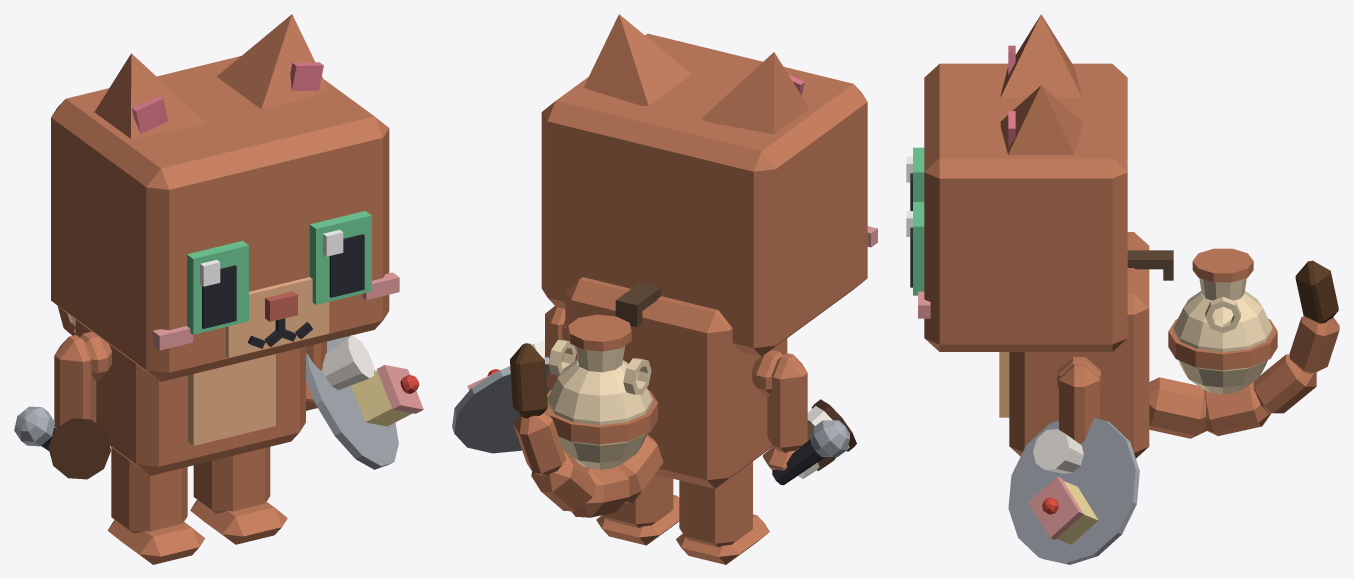
The model's file is CatCafe_Cat_Clay_Work.glb.
The picture shows the model from 3 angles, left to right: view 1: azimuth 30°, elevation 25°; view 2: azimuth 150°, elevation 25°; view 3: azimuth 270°, elevation 25°; orthographic projection. The views are drawn at different scales.
Visible parts, largest first — view 1: CatCafe_Cat_Clay_Work_Head, CatCafe_Cat_Clay_Work_Body, CatCafe_Cat_Clay_Work_Held_Waiter, CatCafe_Cat_Clay_Work_LegB2, CatCafe_Cat_Clay_Work_LegB1, CatCafe_Cat_Clay_Work_EarL, CatCafe_Cat_Clay_Work_Eye1, CatCafe_Cat_Clay_Work_Eye2, CatCafe_Cat_Clay_Work_EarR, CatCafe_Cat_Clay_Work_LegF2, CatCafe_Cat_Clay_Work_Held_Barista, CatCafe_Cat_Clay_Work_Held_Entertainer (+1 smaller); view 2: CatCafe_Cat_Clay_Work_Head, CatCafe_Cat_Clay_Work_Body, CatCafe_Cat_Clay_Work_Prop, CatCafe_Cat_Clay_Work_Tail, CatCafe_Cat_Clay_Work_LegB2, CatCafe_Cat_Clay_Work_EarL, CatCafe_Cat_Clay_Work_EarR, CatCafe_Cat_Clay_Work_Held_Waiter, CatCafe_Cat_Clay_Work_LegF2, CatCafe_Cat_Clay_Work_LegB1, CatCafe_Cat_Clay_Work_Held_Entertainer, CatCafe_Cat_Clay_Work_Held_Barista (+1 smaller); view 3: CatCafe_Cat_Clay_Work_Head, CatCafe_Cat_Clay_Work_Held_Waiter, CatCafe_Cat_Clay_Work_Body, CatCafe_Cat_Clay_Work_Prop, CatCafe_Cat_Clay_Work_Tail, CatCafe_Cat_Clay_Work_EarR, CatCafe_Cat_Clay_Work_EarL, CatCafe_Cat_Clay_Work_LegF1, CatCafe_Cat_Clay_Work_Eye1, CatCafe_Cat_Clay_Work_Eye2.
Part boxes in pixels (x1,y1,x2,y2): CatCafe_Cat_Clay_Work_Head: [51, 56, 399, 381]; CatCafe_Cat_Clay_Work_Body: [75, 320, 305, 475]; CatCafe_Cat_Clay_Work_Held_Waiter: [306, 335, 423, 469]; CatCafe_Cat_Clay_Work_LegB2: [107, 447, 205, 564]; CatCafe_Cat_Clay_Work_LegB1: [190, 447, 287, 544]; CatCafe_Cat_Clay_Work_EarL: [216, 14, 328, 109]; CatCafe_Cat_Clay_Work_Eye1: [309, 211, 371, 304]; CatCafe_Cat_Clay_Work_Eye2: [187, 241, 248, 334]; CatCafe_Cat_Clay_Work_EarR: [94, 53, 206, 138]; CatCafe_Cat_Clay_Work_LegF2: [54, 335, 96, 427]; CatCafe_Cat_Clay_Work_Held_Barista: [48, 418, 110, 479]; CatCafe_Cat_Clay_Work_Held_Entertainer: [14, 406, 55, 450]; CatCafe_Cat_Clay_Work_Head: [541, 33, 877, 356]; CatCafe_Cat_Clay_Work_Body: [562, 277, 787, 488]; CatCafe_Cat_Clay_Work_Prop: [546, 282, 661, 469]; CatCafe_Cat_Clay_Work_Tail: [510, 343, 663, 517]; CatCafe_Cat_Clay_Work_LegB2: [676, 461, 769, 564]; CatCafe_Cat_Clay_Work_EarL: [583, 14, 691, 105]; CatCafe_Cat_Clay_Work_EarR: [701, 52, 809, 134]; CatCafe_Cat_Clay_Work_Held_Waiter: [452, 340, 549, 453]; CatCafe_Cat_Clay_Work_LegF2: [763, 353, 807, 470]; CatCafe_Cat_Clay_Work_LegB1: [596, 474, 679, 545]; CatCafe_Cat_Clay_Work_Held_Entertainer: [772, 420, 849, 485]; CatCafe_Cat_Clay_Work_Held_Barista: [797, 399, 856, 478]; CatCafe_Cat_Clay_Work_Head: [918, 63, 1127, 351]; CatCafe_Cat_Clay_Work_Held_Waiter: [1008, 418, 1139, 564]; CatCafe_Cat_Clay_Work_Body: [999, 232, 1149, 458]; CatCafe_Cat_Clay_Work_Prop: [1127, 248, 1277, 394]; CatCafe_Cat_Clay_Work_Tail: [1149, 260, 1339, 438]; CatCafe_Cat_Clay_Work_EarR: [1000, 14, 1081, 97]; CatCafe_Cat_Clay_Work_EarL: [1000, 85, 1081, 154]; CatCafe_Cat_Clay_Work_LegF1: [1059, 363, 1099, 444]; CatCafe_Cat_Clay_Work_Eye1: [906, 202, 924, 295]; CatCafe_Cat_Clay_Work_Eye2: [906, 147, 924, 210].
Size of the model in its own units: 1.53 by 1.93 by 1.62.
Materials: 1 (1 with a texture image).
